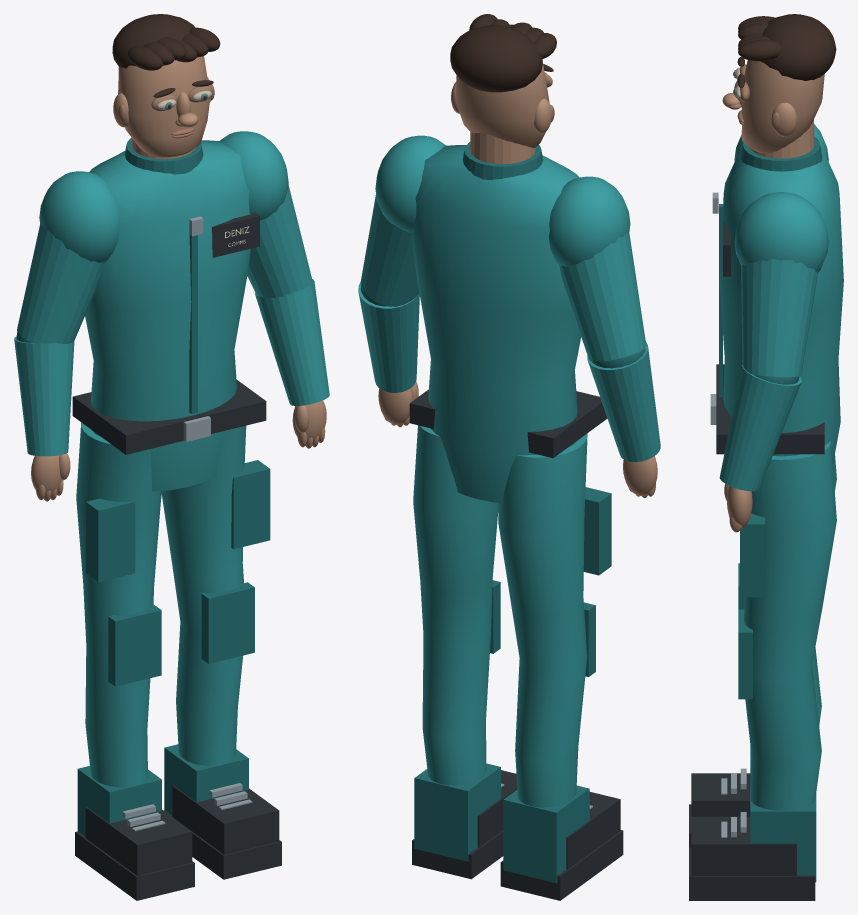
The model's file is Deniz.glb.
3 views of the same model, side by side, from view 1: azimuth 30°, elevation 25°; view 2: azimuth 150°, elevation 25°; view 3: azimuth 270°, elevation 25° (orthographic). The views are drawn at different scales.
Parts seen in each view (by area): view 1: Tailored torso, Trouser leg, Trouser leg.001, Upper sleeve, Head, Forearm sleeve.001, Forearm sleeve, Shoulder seam, Utility belt, Boot toe.001, Boot toe, Upper sleeve.001 (+16 smaller); view 2: Tailored torso, Trouser leg, Trouser leg.001, Upper sleeve, Boot ankle.001, Boot ankle, Shoulder seam, Forearm sleeve, Scalp hair, Forearm sleeve.001, Head, Upper sleeve.001 (+13 smaller); view 3: Trouser leg.001, Tailored torso, Upper sleeve.001, Forearm sleeve.001, Shoulder seam.001, Boot toe.001, Head, Scalp hair, Boot sole.001, Boot ankle.001, Boot toe, Thigh tool pocket.001 (+10 smaller).
Part boxes in pixels (left/top/right/bottom): Tailored torso: left=85, top=140, right=250, bottom=491; Trouser leg: left=76, top=422, right=161, bottom=787; Trouser leg.001: left=161, top=425, right=246, bottom=765; Upper sleeve: left=17, top=224, right=105, bottom=343; Head: left=118, top=56, right=210, bottom=157; Forearm sleeve.001: left=255, top=279, right=329, bottom=405; Forearm sleeve: left=14, top=336, right=74, bottom=456; Shoulder seam: left=39, top=171, right=119, bottom=262; Utility belt: left=72, top=380, right=266, bottom=454; Boot toe.001: left=172, top=785, right=279, bottom=854; Boot toe: left=85, top=807, right=192, bottom=875; Upper sleeve.001: left=247, top=185, right=312, bottom=298; Tailored torso: left=412, top=145, right=580, bottom=503; Trouser leg: left=498, top=433, right=587, bottom=807; Trouser leg.001: left=413, top=425, right=498, bottom=785; Upper sleeve: left=559, top=232, right=646, bottom=361; Boot ankle.001: left=414, top=763, right=500, bottom=861; Boot ankle: left=503, top=785, right=589, bottom=883; Shoulder seam: left=548, top=176, right=630, bottom=266; Forearm sleeve: left=587, top=341, right=660, bottom=461; Scalp hair: left=450, top=25, right=542, bottom=92; Forearm sleeve.001: left=358, top=282, right=419, bottom=392; Head: left=455, top=62, right=549, bottom=148; Upper sleeve.001: left=360, top=195, right=419, bottom=306; Trouser leg.001: left=743, top=441, right=836, bottom=810; Tailored torso: left=719, top=146, right=843, bottom=465; Upper sleeve.001: left=741, top=258, right=817, bottom=377; Forearm sleeve.001: left=719, top=365, right=801, bottom=491; Shoulder seam.001: left=734, top=192, right=828, bottom=272; Boot toe.001: left=691, top=816, right=796, bottom=875; Head: left=741, top=60, right=824, bottom=153; Scalp hair: left=761, top=14, right=836, bottom=80; Boot sole.001: left=689, top=847, right=815, bottom=900; Boot ankle.001: left=750, top=786, right=816, bottom=882; Boot toe: left=691, top=773, right=750, bottom=816; Thigh tool pocket.001: left=740, top=513, right=765, bottom=597.
Bounding box in the file's own units: 0.3949 × 1.09 × 0.1814.
